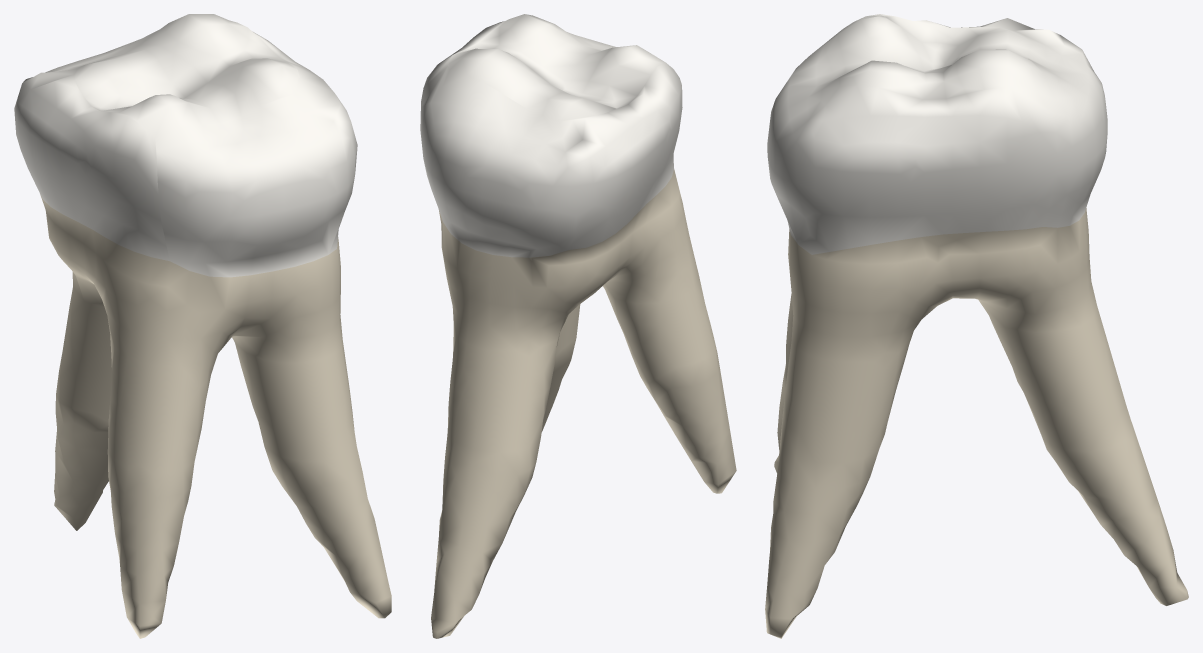
3 renders of one model, left to right at view 1: azimuth 30°, elevation 25°; view 2: azimuth 150°, elevation 25°; view 3: azimuth 270°, elevation 25°, orthographic. The views are drawn at different scales.
Visible parts, largest first — view 1: root, V, D, O, M, L; view 2: root, L, D, O, M; view 3: root, M, O, L, V, D.
Boxes of the visible parts, <box> form: root: <box>40,194,391,638</box>; V: <box>155,93,354,277</box>; D: <box>14,65,169,261</box>; O: <box>74,14,299,136</box>; M: <box>252,31,357,174</box>; L: <box>28,30,158,78</box>; root: <box>431,169,736,638</box>; L: <box>422,72,576,257</box>; D: <box>559,62,682,249</box>; O: <box>448,14,664,121</box>; M: <box>420,21,504,156</box>; root: <box>765,208,1188,638</box>; M: <box>796,77,1057,254</box>; O: <box>838,14,1031,99</box>; L: <box>1026,41,1107,227</box>; V: <box>767,30,845,254</box>; D: <box>913,18,1081,49</box>.
Bounding box in the file's own units: 8.64 × 18.51 × 12.43.
